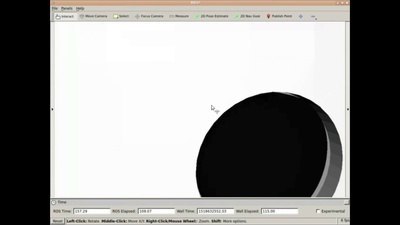mira_robot: (57, 22, 344, 197)
